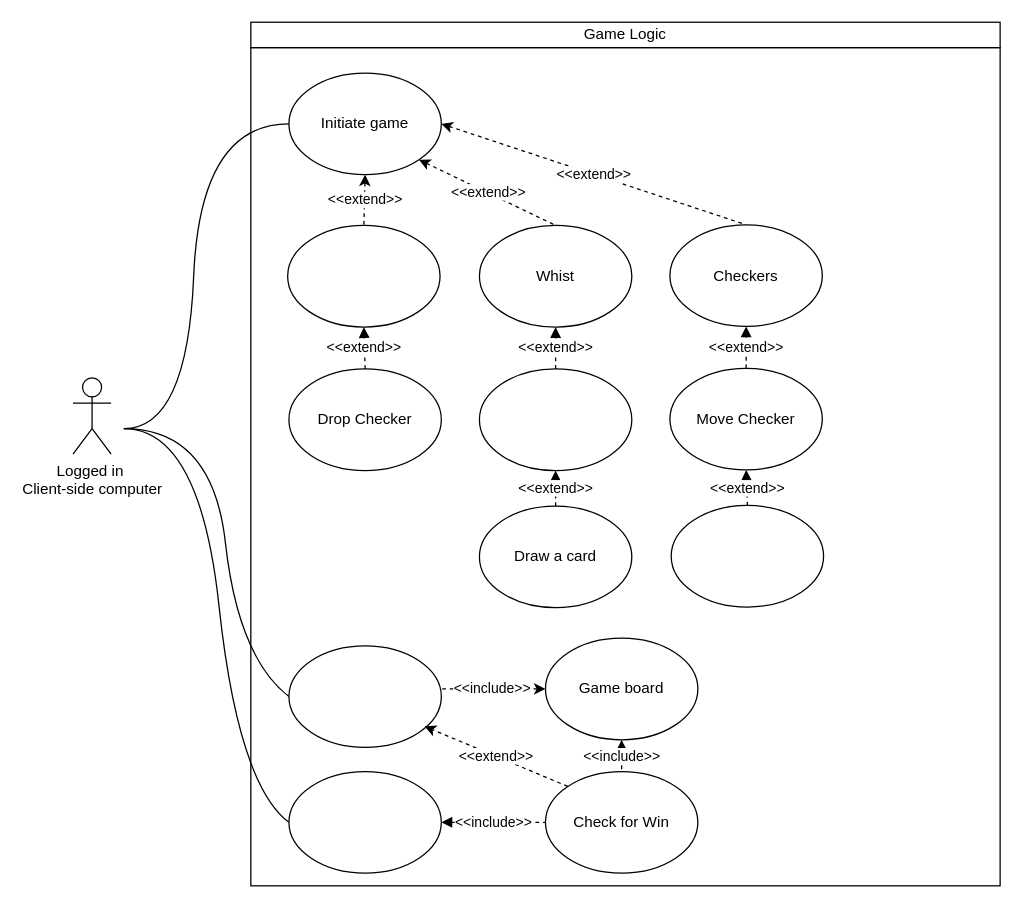
Some shapes in this 1022 by 908 pixel diagram are drawn without their labels. The box of each missing label's shape, as (x1, y1, x2, y2) in pixels:
Connect Four: (286, 224, 440, 327)
Data fetch: (288, 645, 441, 747)
Play a card: (478, 368, 632, 471)
Promote to king: (670, 504, 824, 607)
Quit: (288, 770, 441, 873)
